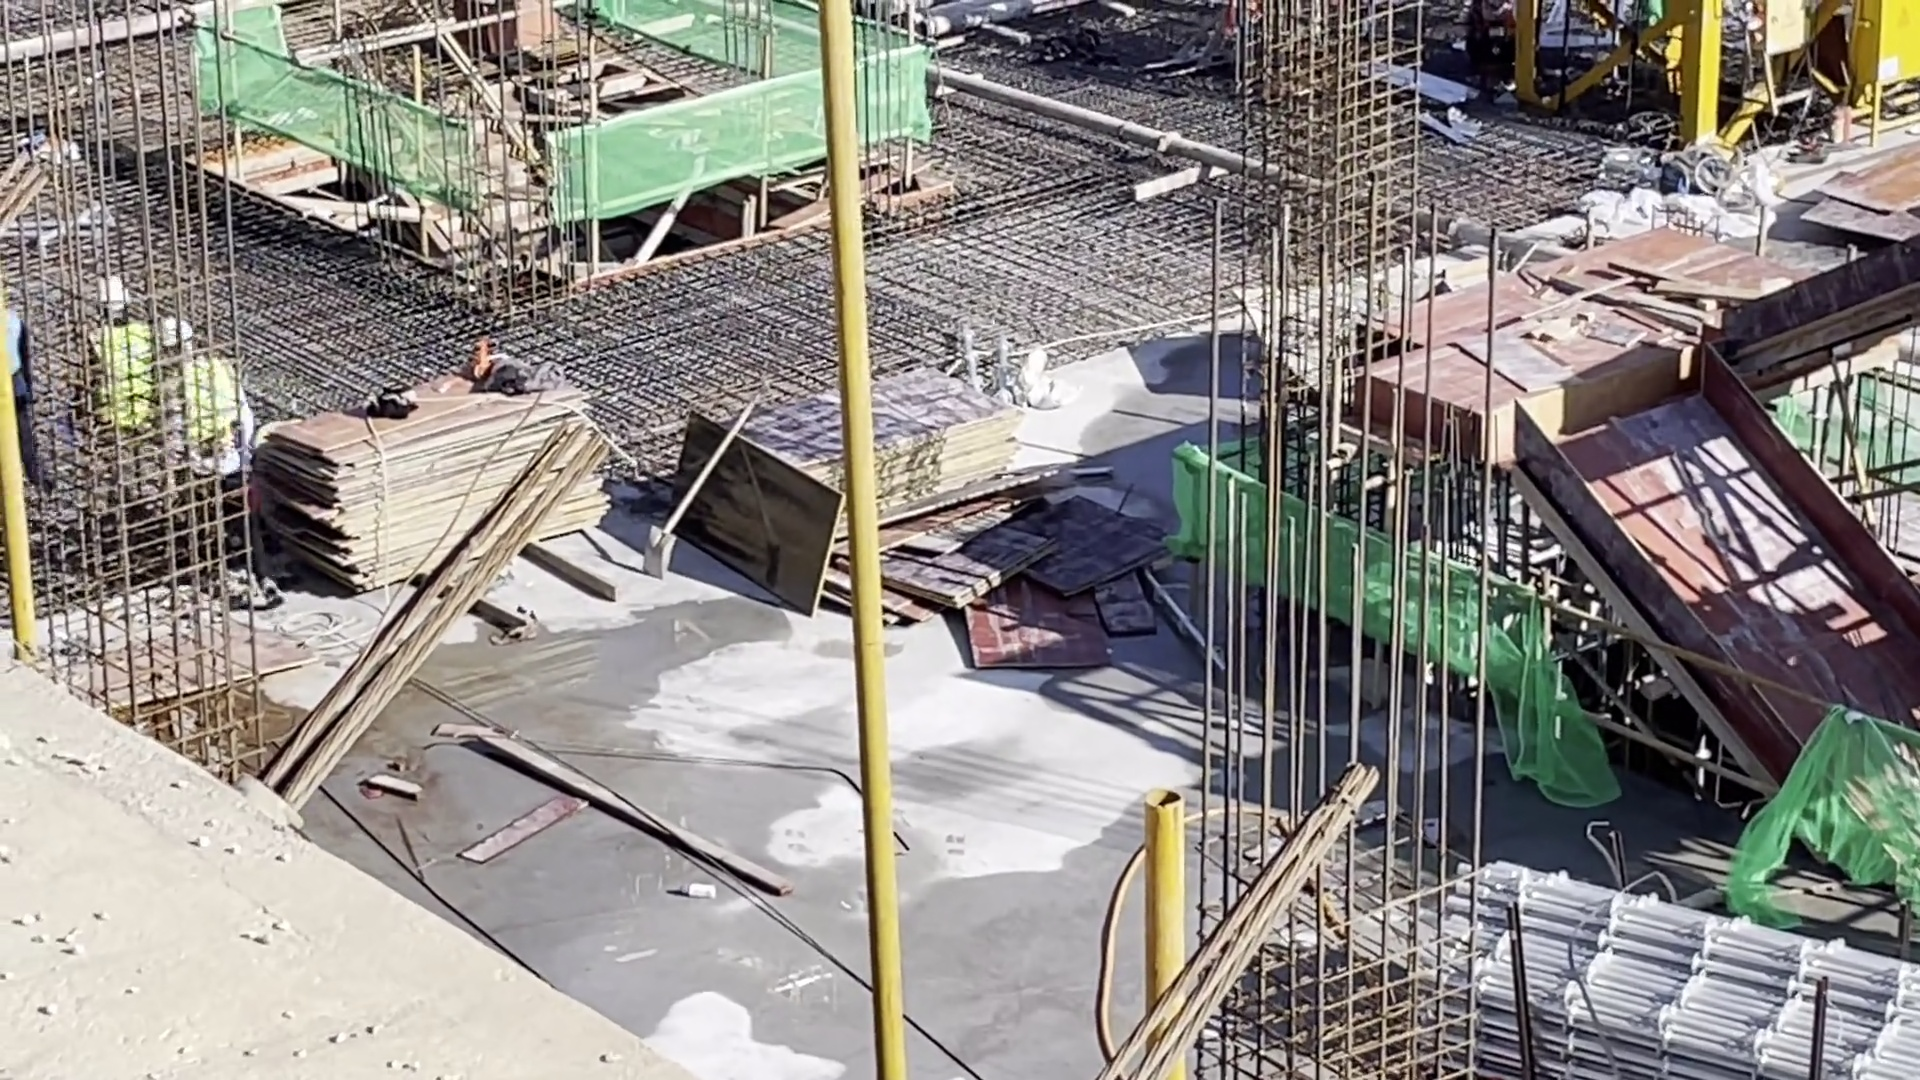board: (254, 360, 609, 595), (730, 363, 1019, 529), (1409, 302, 1703, 464)
ebox: (1845, 5, 1920, 141)
helmet: (95, 277, 129, 302), (162, 318, 192, 346)
person: (156, 316, 288, 609), (79, 272, 163, 440)
scaffold: (1495, 861, 1920, 1080)
vest: (94, 322, 154, 428), (178, 362, 235, 445)
